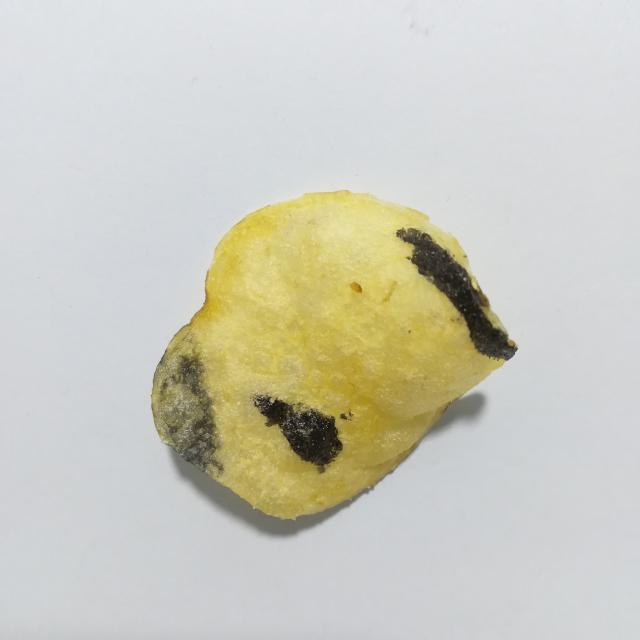chip: (151, 191, 517, 518)
damaged: (396, 228, 517, 361), (254, 395, 342, 472), (340, 413, 347, 419), (349, 412, 352, 417)
semi-damaged: (152, 324, 222, 475)
